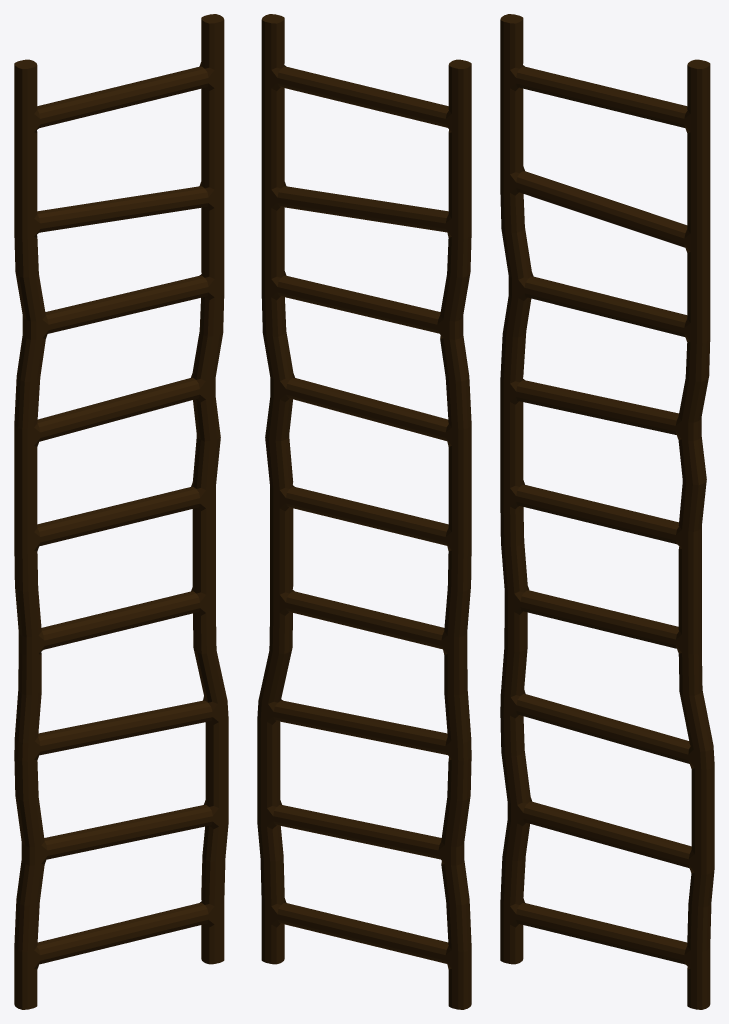
File: Ladder.glb
3 views of the same model, side by side, from view 1: azimuth 30°, elevation 25°; view 2: azimuth 150°, elevation 25°; view 3: azimuth 330°, elevation 25° (orthographic).
Visible parts, largest first — view 1: Ladder; view 2: Ladder; view 3: Ladder.
Boxes of the visible parts, bbox=[...] form: Ladder: bbox=[14, 14, 228, 1009]; Ladder: bbox=[257, 14, 471, 1009]; Ladder: bbox=[500, 14, 714, 1009].
Bounding box in the file's own units: 0.9206 × 3.94 × 0.077.
